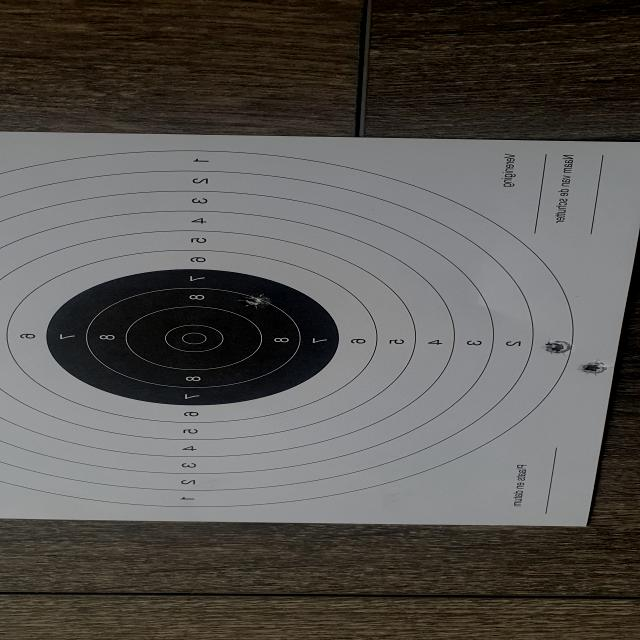0: (574, 358, 613, 376)
1: (540, 340, 576, 354)
8: (234, 292, 275, 308)
Target: (0, 151, 575, 509)
black_contour: (47, 270, 340, 407)
